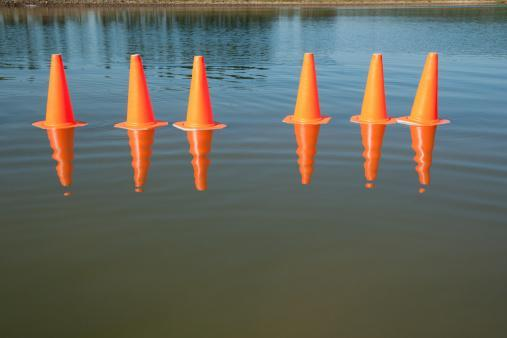Cone: (31, 52, 88, 128), (114, 51, 166, 130), (172, 54, 226, 129), (400, 51, 450, 127), (352, 53, 397, 125), (283, 52, 325, 124)
